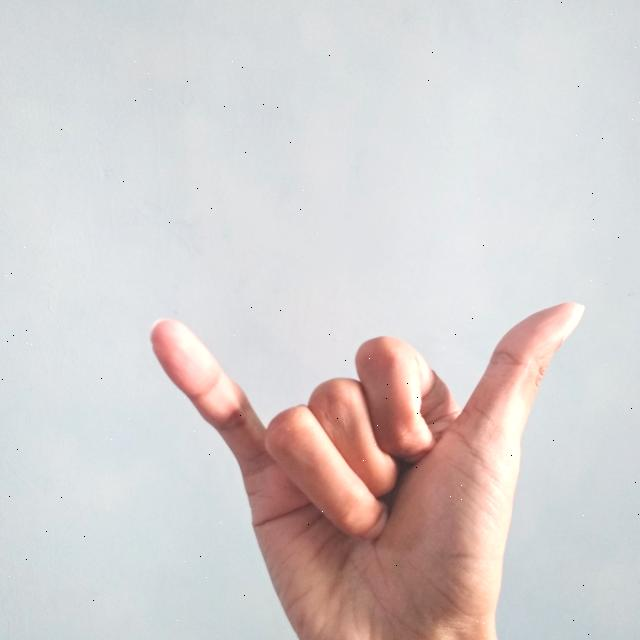Y: (147, 292, 592, 640)
